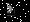person: (9, 5, 19, 20)
